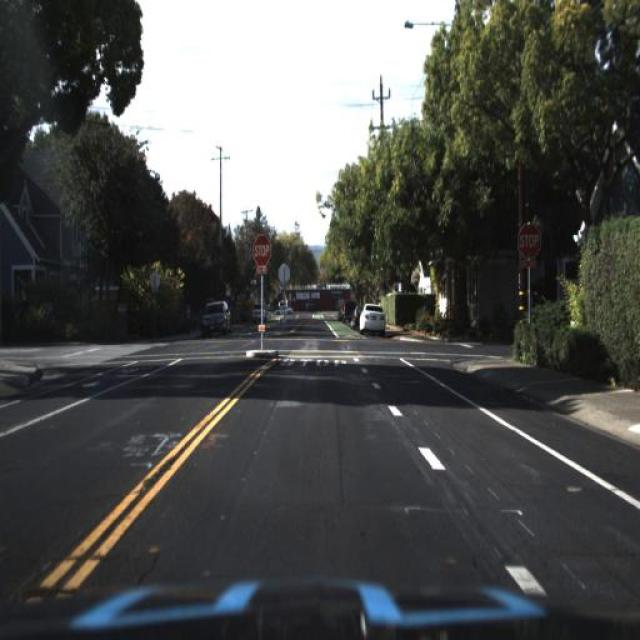car: (203, 299, 232, 333), (358, 298, 384, 332), (248, 296, 272, 326)
trafficLight: (180, 299, 192, 337)
